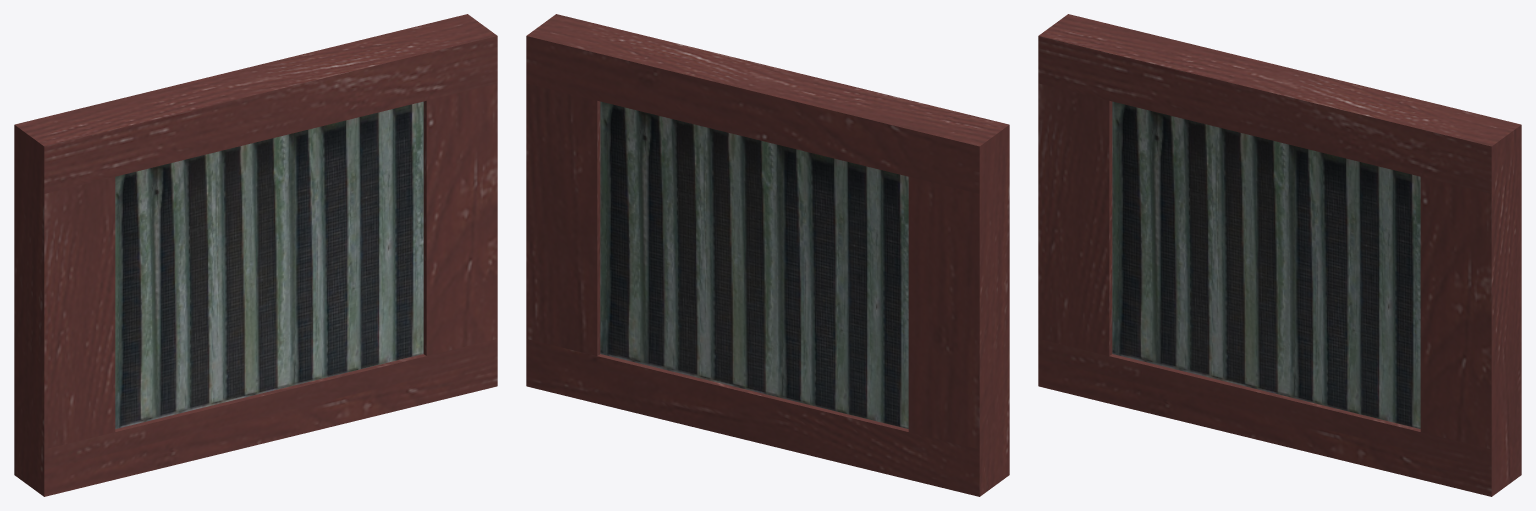
Rendered from SM_Geumsan_Mi_Wall_M.fbx.
The picture shows the model from 3 angles, left to right: view 1: azimuth 30°, elevation 25°; view 2: azimuth 150°, elevation 25°; view 3: azimuth 330°, elevation 25°; orthographic projection.
Visible parts, largest first — view 1: SM_Geumsan_Mi_Wall_M; view 2: SM_Geumsan_Mi_Wall_M; view 3: SM_Geumsan_Mi_Wall_M.
Boxes of the visible parts, x1,y1,x2,y2 form: SM_Geumsan_Mi_Wall_M: [14, 14, 497, 496]; SM_Geumsan_Mi_Wall_M: [526, 14, 1009, 496]; SM_Geumsan_Mi_Wall_M: [1038, 14, 1521, 496].
Bounding box in the file's own units: 131 × 96.9 × 15.
